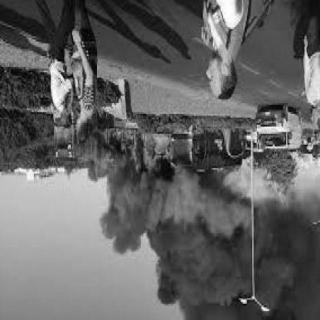Fire: (76, 115, 190, 193)
